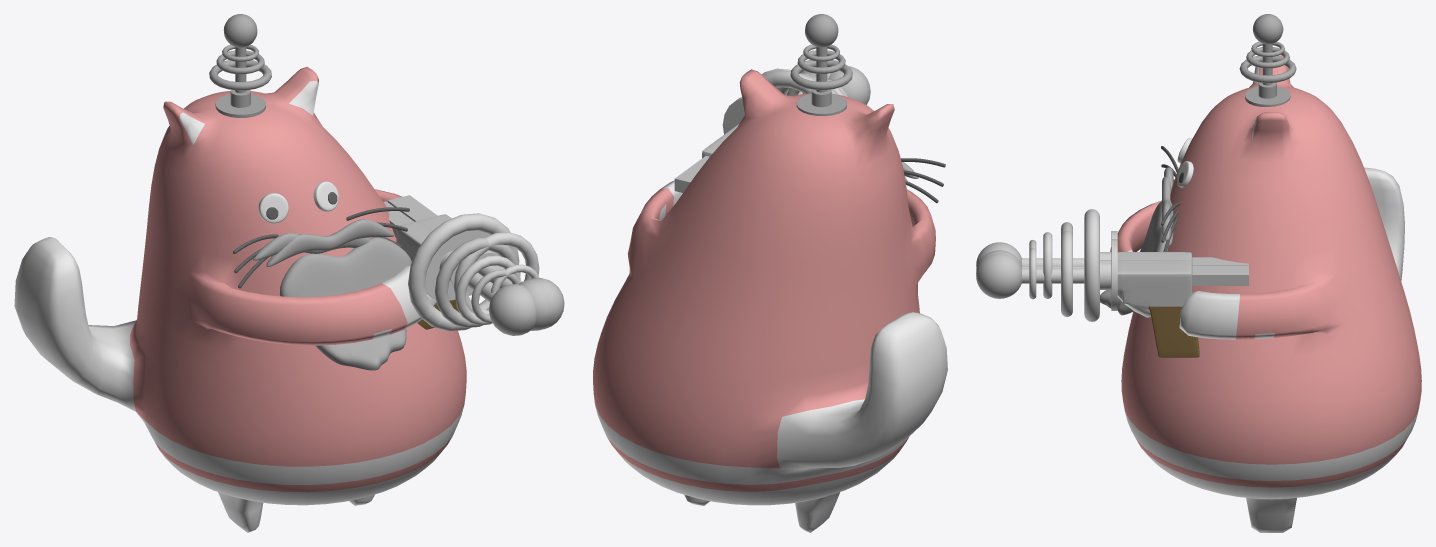
Rendered from lazer_cat.fbx.
3 views of the same model, side by side, from view 1: azimuth 30°, elevation 25°; view 2: azimuth 150°, elevation 25°; view 3: azimuth 270°, elevation 25° (orthographic). The views are drawn at different scales.
Parts seen in each view (by area): view 1: lazer_lv1, lazer_lv3, lazer_lv2; view 2: lazer_lv1, lazer_lv2, lazer_lv3; view 3: lazer_lv1, lazer_lv2, lazer_lv3.
Part boxes in pixels (x1,y1,x2,y2): lazer_lv1: [14, 67, 564, 444]; lazer_lv3: [14, 14, 536, 532]; lazer_lv2: [34, 69, 548, 438]; lazer_lv1: [594, 69, 946, 449]; lazer_lv2: [593, 68, 947, 448]; lazer_lv3: [593, 14, 947, 532]; lazer_lv1: [976, 55, 1421, 454]; lazer_lv2: [976, 55, 1415, 454]; lazer_lv3: [976, 14, 1421, 532].
Bounding box in the file's own units: 0.9797 × 1.31 × 1.14.
